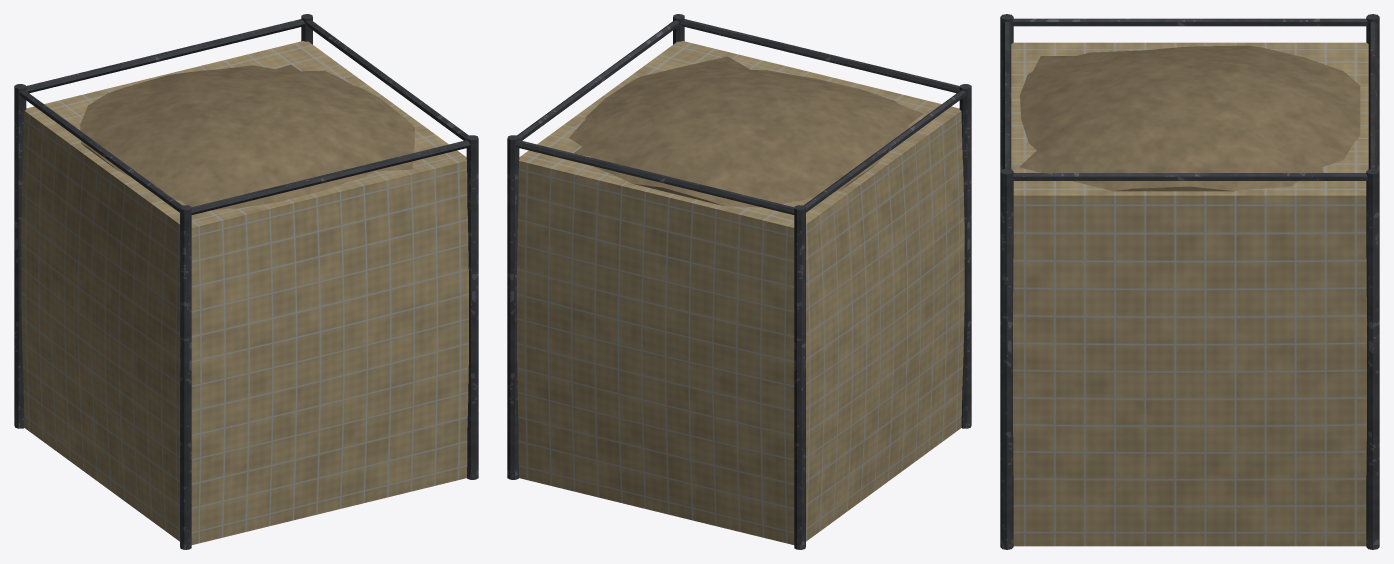
Rendered from COV_Hesco_Single.glb.
3 views of the same model, side by side, from view 1: azimuth 30°, elevation 25°; view 2: azimuth 150°, elevation 25°; view 3: azimuth 270°, elevation 25° (orthographic). The views are drawn at different scales.
Visible parts, largest first — view 1: COV_Hesco_Single_Mesh; view 2: COV_Hesco_Single_Mesh; view 3: COV_Hesco_Single_Mesh.
Part boxes in pixels (x1,y1,x2,y2): COV_Hesco_Single_Mesh: (14,14,478,549); COV_Hesco_Single_Mesh: (507,14,971,549); COV_Hesco_Single_Mesh: (1000,14,1379,549).
Bounding box in the file's own units: 1.24 × 1.38 × 1.24.
3 materials, 3 textured.
